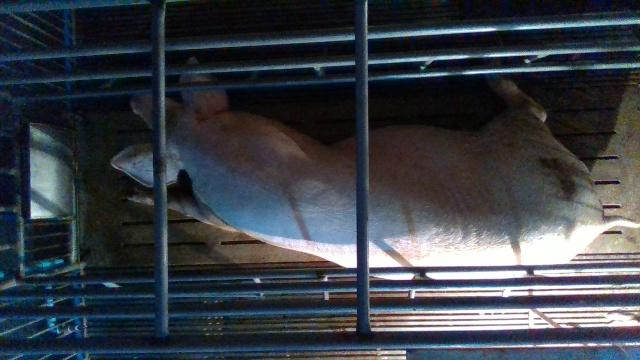sow-sit: (111, 56, 640, 280)
